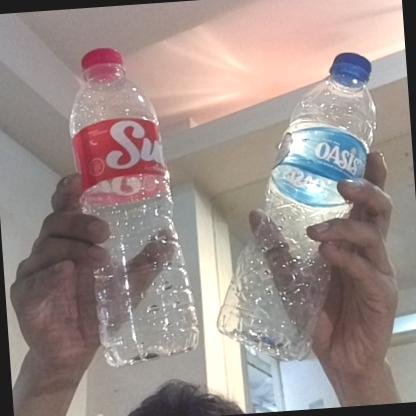plastic_bottles: (199, 48, 394, 372), (66, 40, 204, 371)
